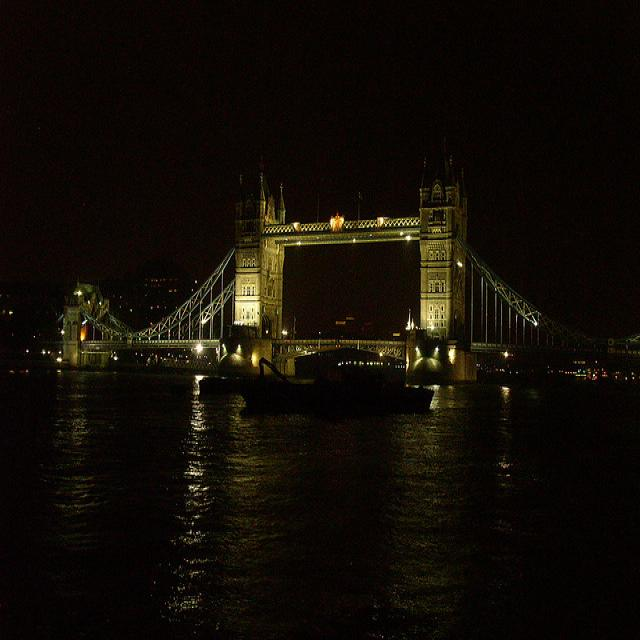Boat: (210, 343, 425, 417)
